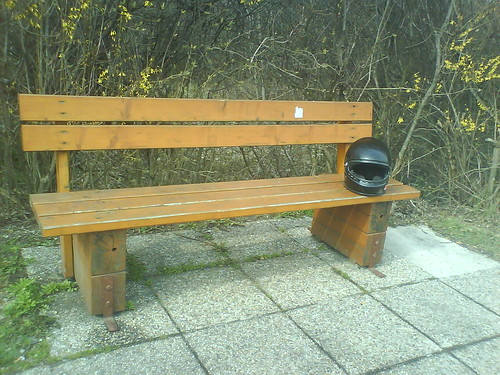helmet: (340, 136, 392, 194)
